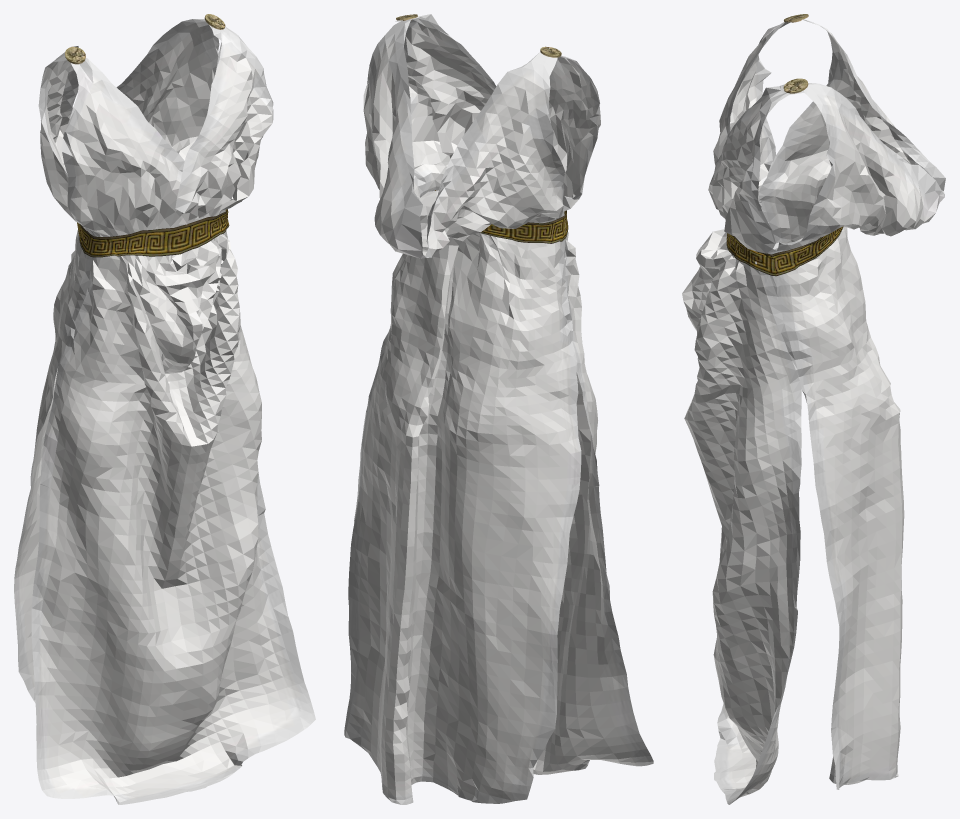
The model's file is mhw_elvs_goddess_dress1.glb.
3 views of the same model, side by side, from view 1: azimuth 30°, elevation 25°; view 2: azimuth 150°, elevation 25°; view 3: azimuth 270°, elevation 25° (orthographic). The views are drawn at different scales.
Parts seen in each view (by area): view 1: mhw_elvs_goddess_dress1; view 2: mhw_elvs_goddess_dress1; view 3: mhw_elvs_goddess_dress1.
Part boxes in pixels (x1,y1,x2,y2): mhw_elvs_goddess_dress1: (14, 14, 315, 804); mhw_elvs_goddess_dress1: (344, 14, 653, 804); mhw_elvs_goddess_dress1: (682, 14, 945, 804).
Size of the model in its own units: 0.6178 by 1.56 by 0.516.
Materials: 1 (1 with a texture image).
